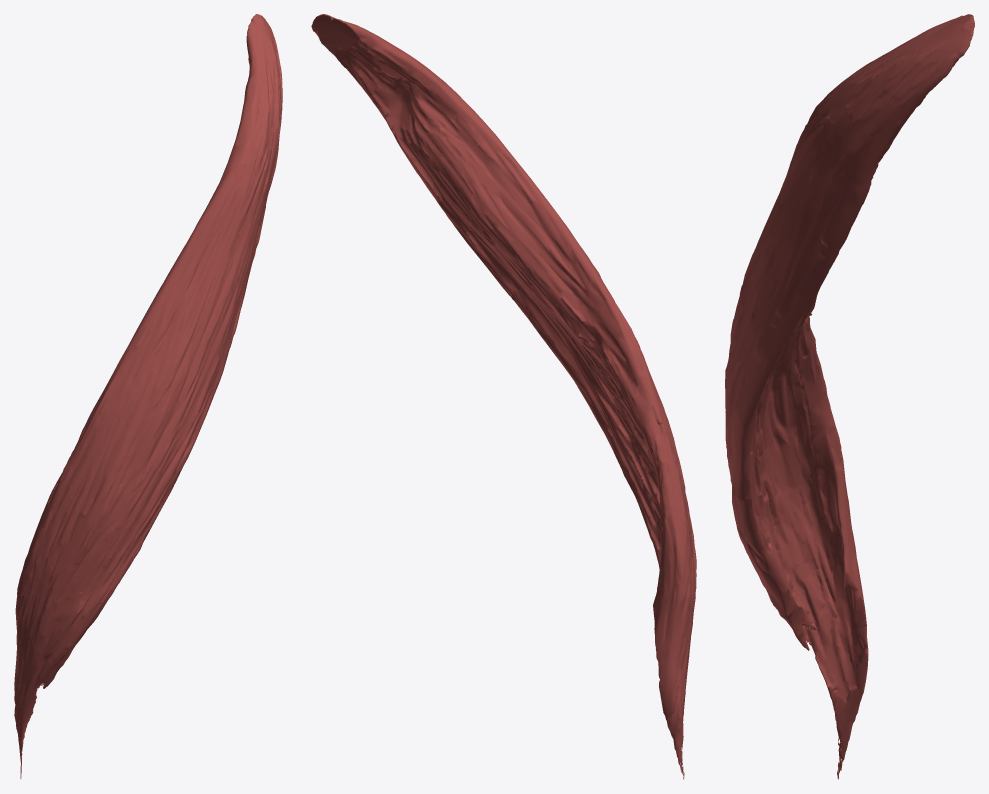
The model's file is FMA38560.glb.
The picture shows the model from 3 angles, left to right: view 1: azimuth 30°, elevation 25°; view 2: azimuth 150°, elevation 25°; view 3: azimuth 270°, elevation 25°; orthographic projection. The views are drawn at different scales.
Visible parts, largest first — view 1: FMA38560; view 2: FMA38560; view 3: FMA38560.
Part boxes in pixels (x1=…): FMA38560: x1=14, y1=14, x2=282, y2=778; FMA38560: x1=311, y1=14, x2=696, y2=779; FMA38560: x1=725, y1=14, x2=974, y2=779.
Bounding box in the file's own units: 0.0701 × 0.1487 × 0.0349.
